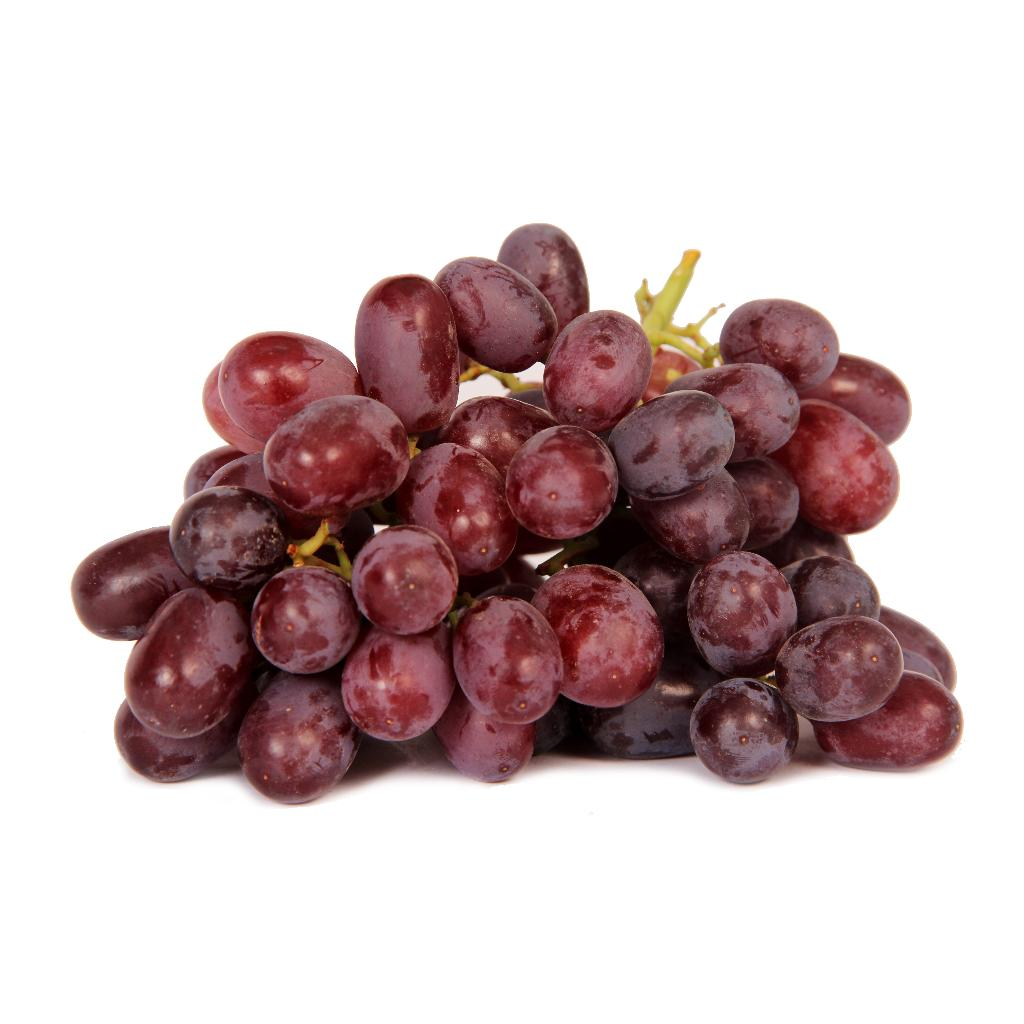grape: (72, 224, 961, 803)
